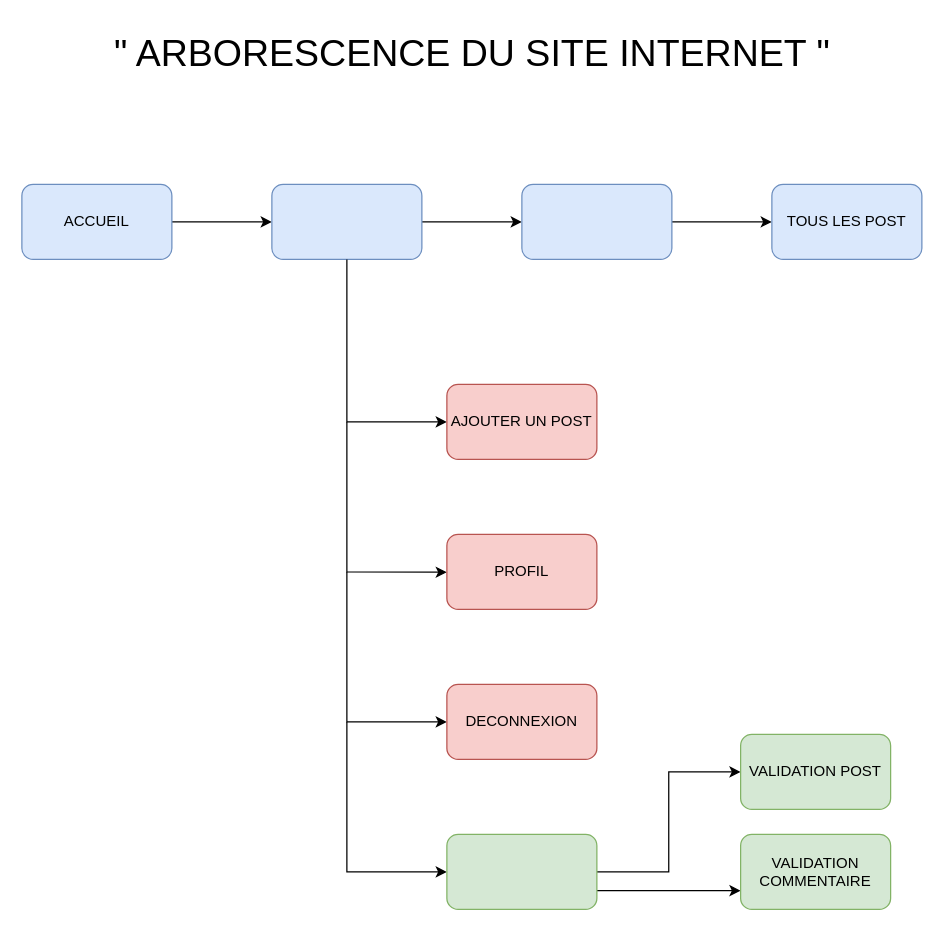
This 944x931 diagram has some shape labels left out. The centre of each missing label's shape, as x and y in pixels:
ADMINISTRATION: (521,871)
CONNEXION: (346,221)
INSCRIPTION: (596,221)
